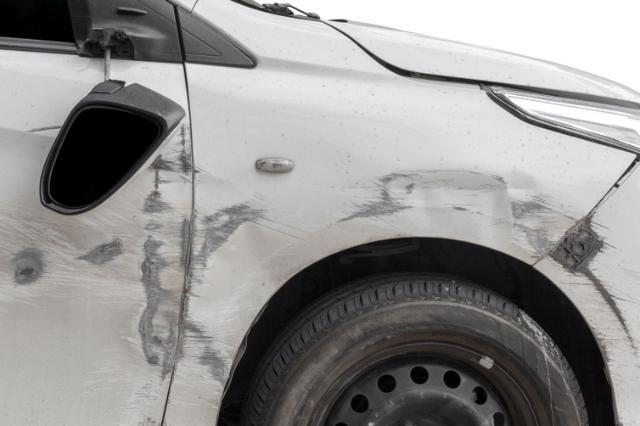Bumper: (563, 187, 630, 393)
Door: (4, 55, 180, 403)
Fender: (194, 65, 556, 274)
